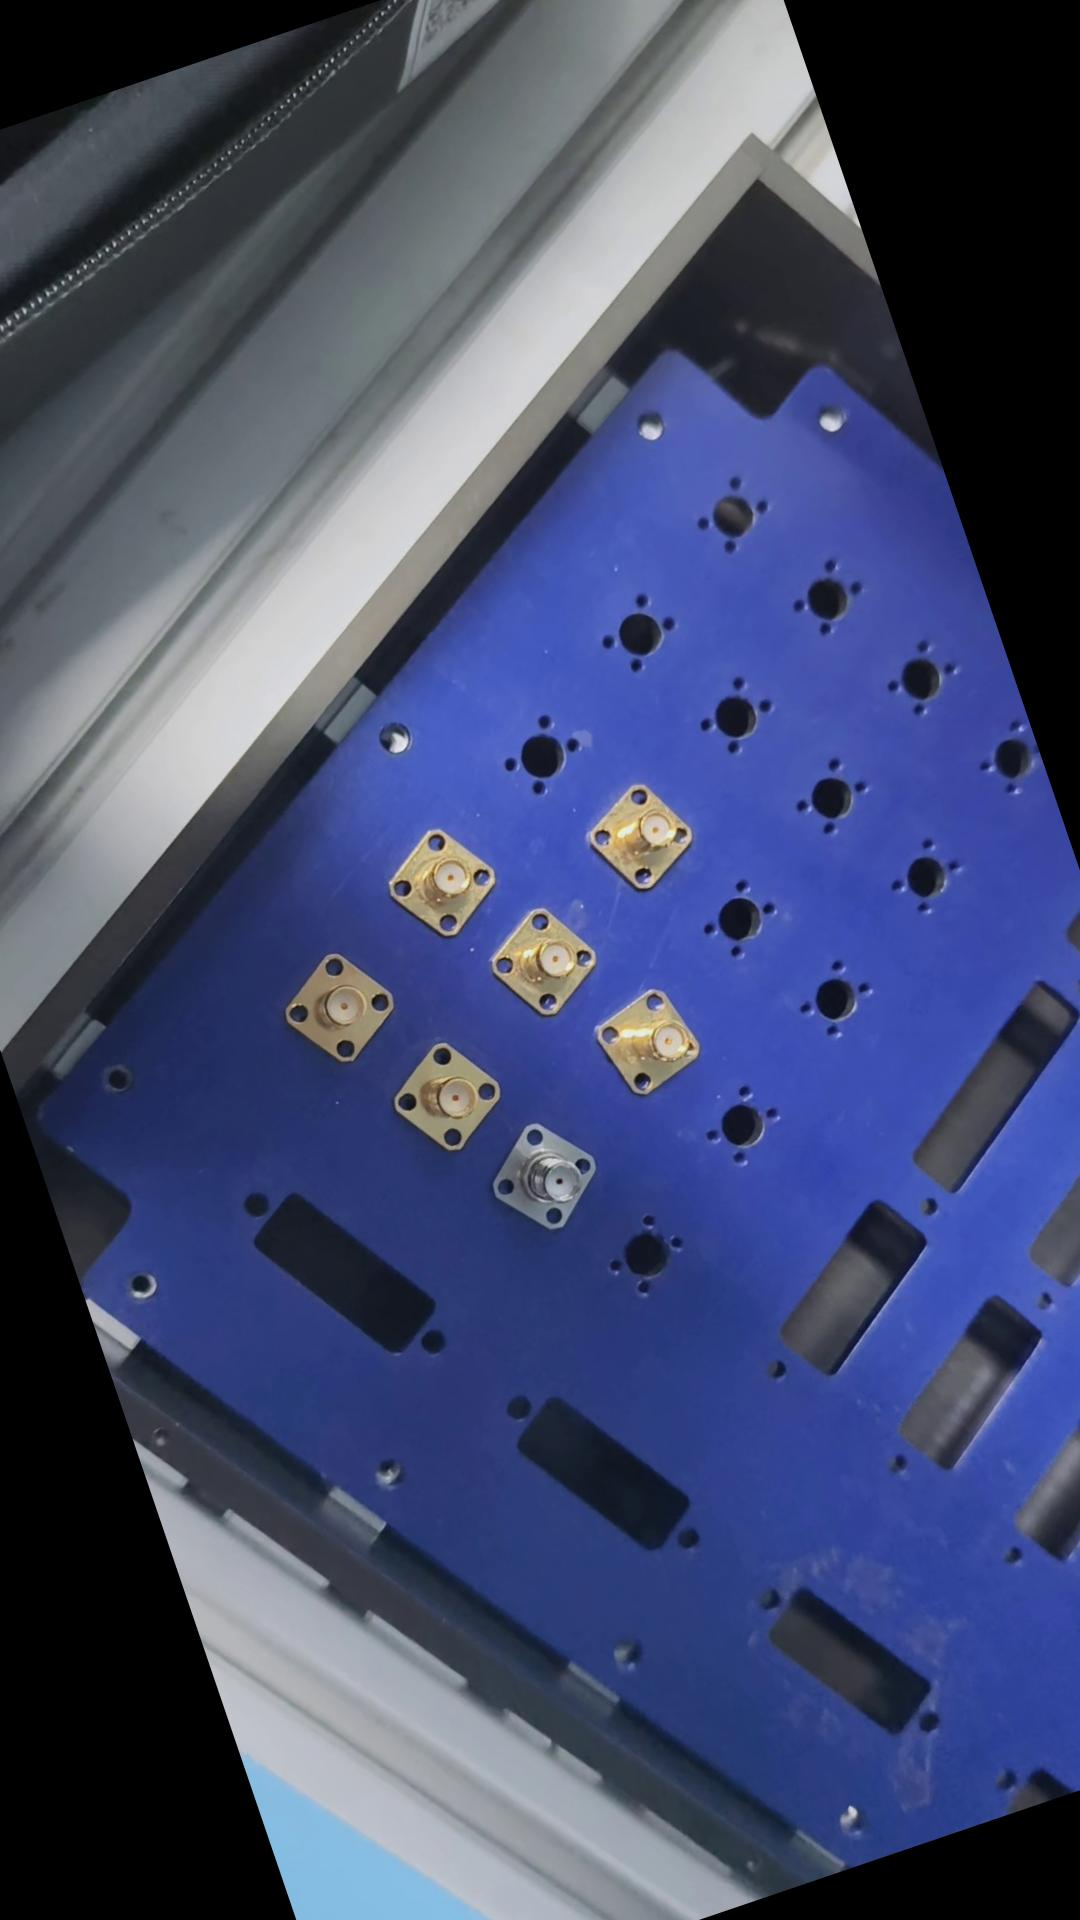SMA: (473, 1098, 618, 1250), (375, 1021, 521, 1164), (375, 804, 512, 948), (270, 938, 407, 1073), (587, 978, 728, 1106), (479, 894, 612, 1029), (578, 765, 704, 895)
